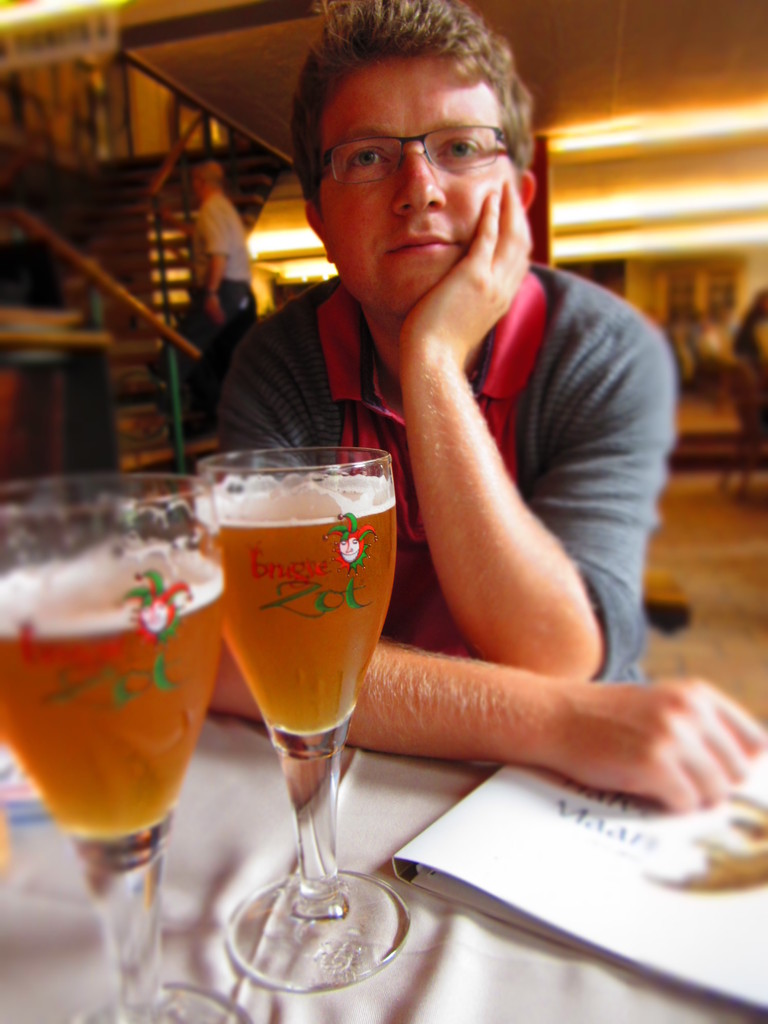Beer: (0, 553, 222, 833), (201, 483, 400, 761)
